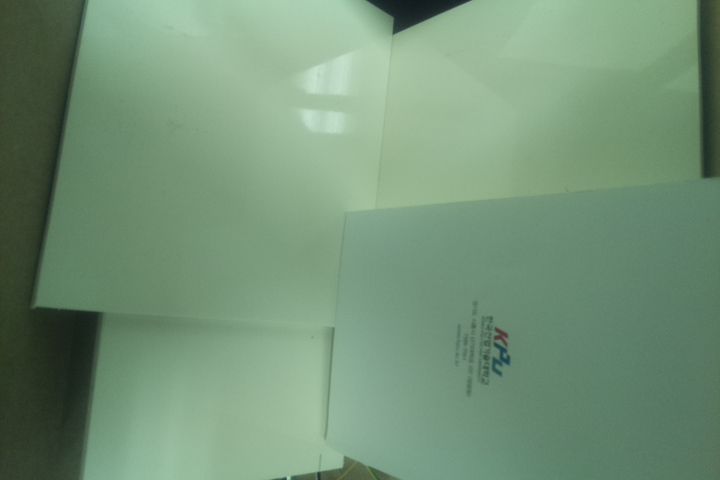book: (320, 175, 719, 480)
